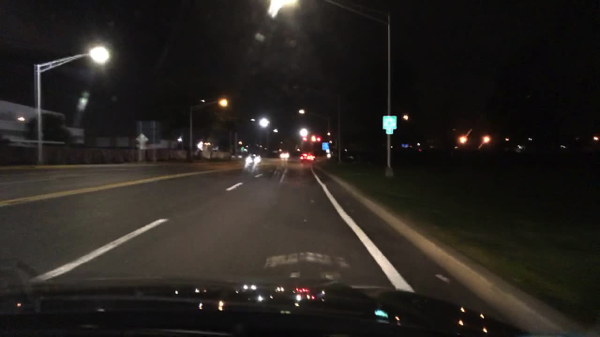car: (300, 152, 314, 163), (245, 154, 261, 163), (279, 150, 291, 161)
traffic light: (316, 137, 322, 145)
traffic sign: (382, 116, 396, 128), (136, 133, 148, 142), (135, 143, 147, 149), (386, 128, 394, 136), (322, 141, 329, 150)
